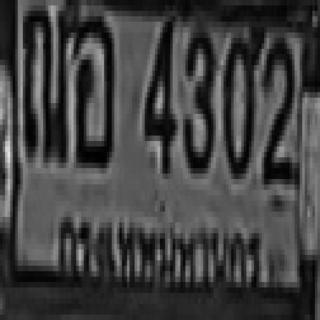A19: (20, 0, 69, 157)
A43: (71, 11, 112, 163)
N00: (222, 33, 258, 174)
N02: (262, 35, 294, 182)
N03: (180, 27, 213, 168)
N04: (142, 14, 173, 171)
P04: (48, 196, 264, 300)
